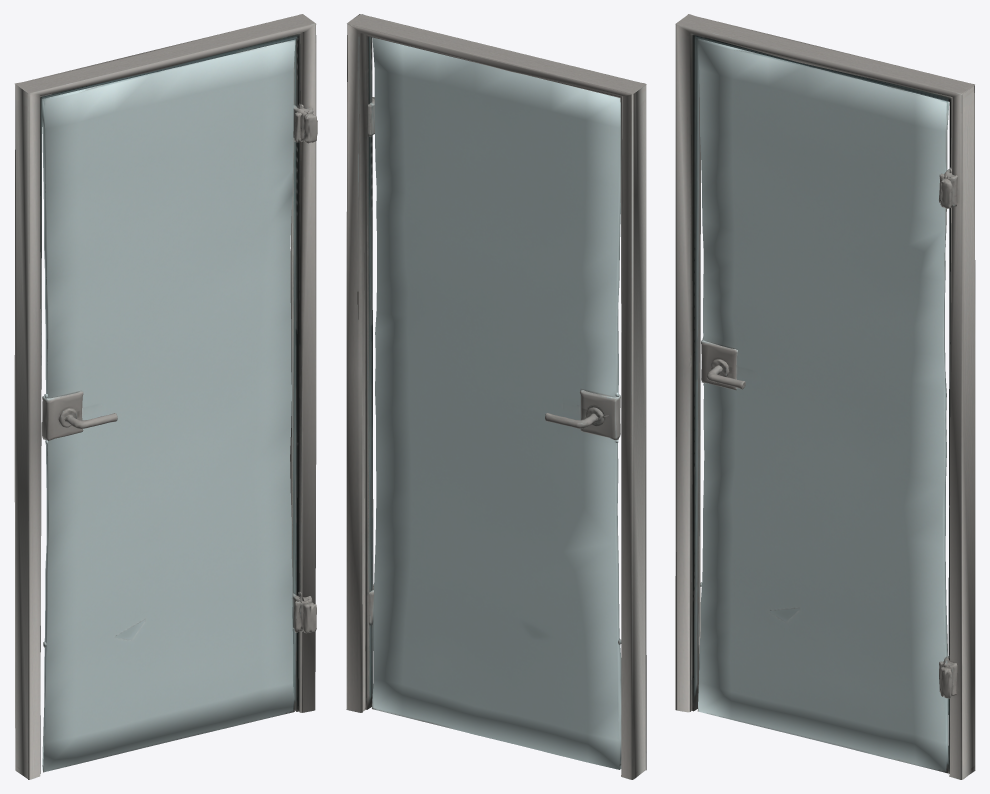
The model's file is Meshy_AI_glass_door_0904015552_texture.glb.
3 views of the same model, side by side, from view 1: azimuth 30°, elevation 25°; view 2: azimuth 150°, elevation 25°; view 3: azimuth 330°, elevation 25° (orthographic).
Visible parts, largest first — view 1: mesh_node; view 2: mesh_node; view 3: mesh_node.
Part boxes in pixels (left/top/right/bottom): mesh_node: left=14, top=14, right=317, bottom=779; mesh_node: left=346, top=14, right=646, bottom=779; mesh_node: left=675, top=14, right=975, bottom=779.
Size of the model in its own units: 0.4395 by 1 by 0.0942.
Materials: 1 (1 with a texture image).
